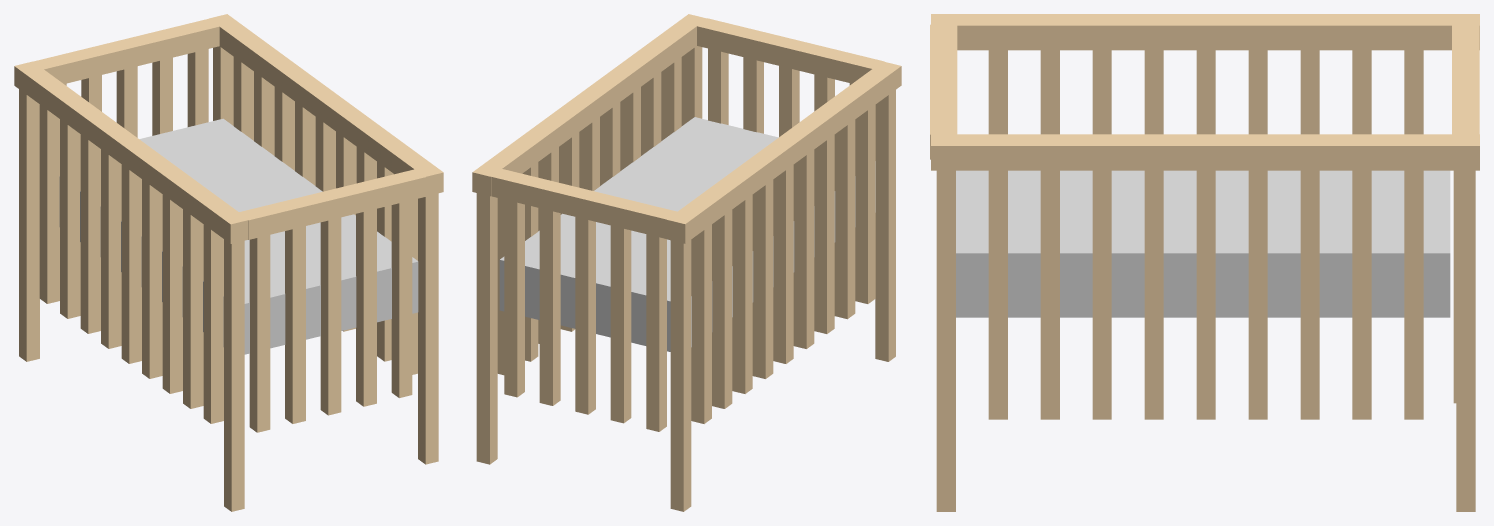
The model's file is crib.fbx.
3 views of the same model, side by side, from view 1: azimuth 30°, elevation 25°; view 2: azimuth 150°, elevation 25°; view 3: azimuth 270°, elevation 25° (orthographic). The views are drawn at different scales.
Parts seen in each view (by area): view 1: crib; view 2: crib; view 3: crib.
Boxes of the visible parts, left/top/right/bottom form: crib: left=14, top=14, right=443, bottom=511; crib: left=472, top=14, right=901, bottom=511; crib: left=930, top=14, right=1479, bottom=511.
Size of the model in its own units: 203 by 264 by 357.
